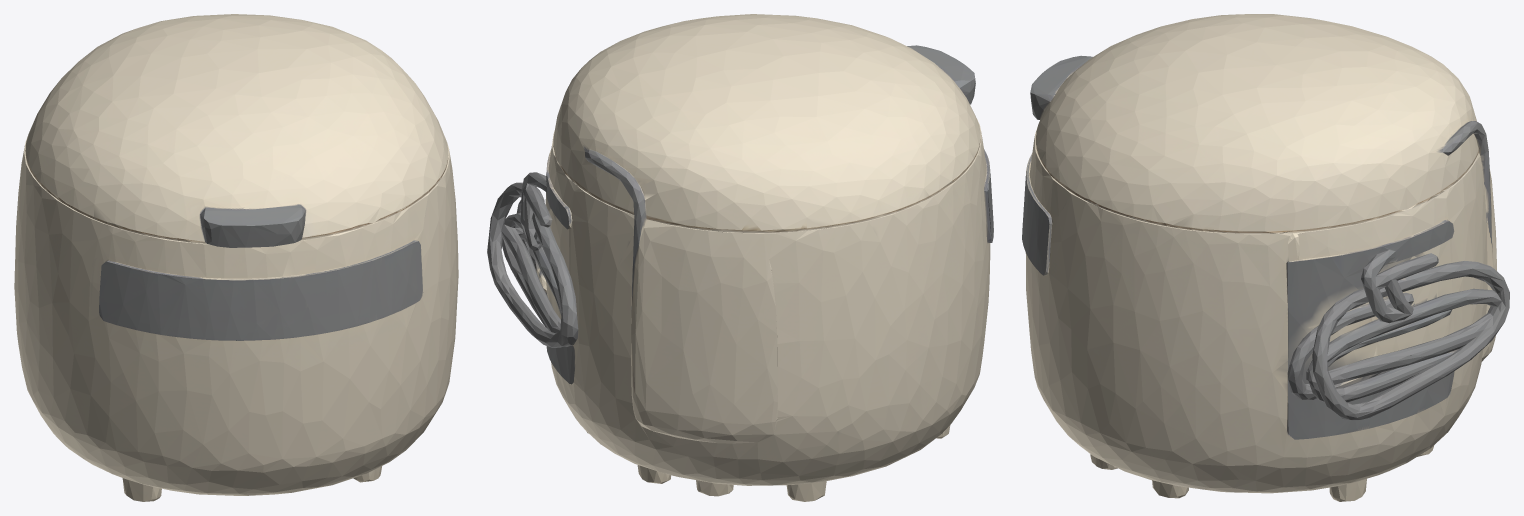
Rendered from rice_cooker.glb.
The picture shows the model from 3 angles, left to right: view 1: azimuth 30°, elevation 25°; view 2: azimuth 150°, elevation 25°; view 3: azimuth 270°, elevation 25°; orthographic projection. The views are drawn at different scales.
Parts seen in each view (by area): view 1: rice_cooker; view 2: rice_cooker; view 3: rice_cooker.
Boxes of the visible parts, bbox=[...] form: rice_cooker: bbox=[14, 14, 458, 501]; rice_cooker: bbox=[487, 14, 993, 501]; rice_cooker: bbox=[1022, 14, 1509, 501].
Bounding box in the file's own units: 0.337 × 0.28 × 0.3216.
1 material, 1 textured.
